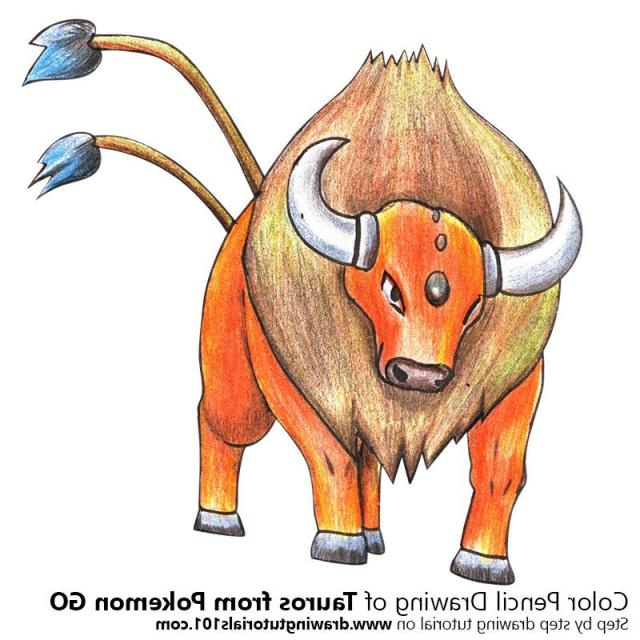Tauros: (190, 46, 562, 590)
